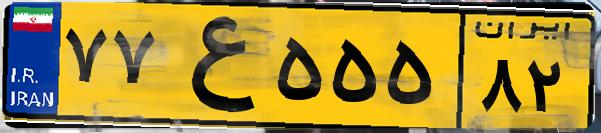2: (525, 38, 570, 115)
5: (270, 28, 330, 110), (385, 28, 445, 110), (330, 28, 385, 110)
7: (57, 26, 110, 100), (110, 28, 158, 98)
8: (475, 38, 525, 113)
ع: (158, 12, 270, 120)
